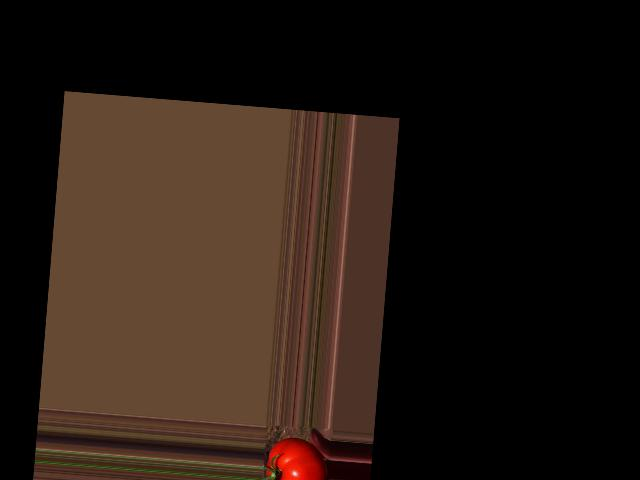tomato: (263, 437, 329, 480)
